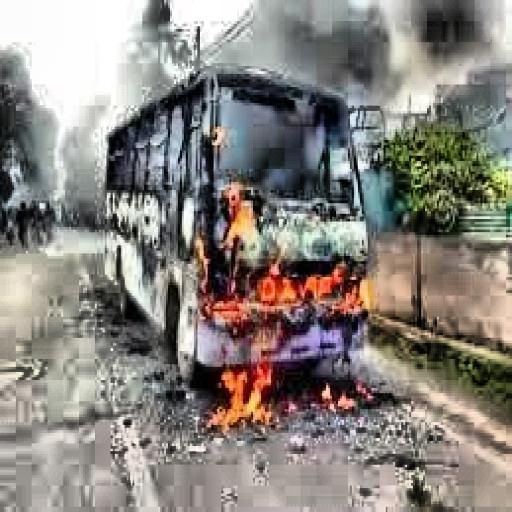fire: (184, 209, 387, 393)
